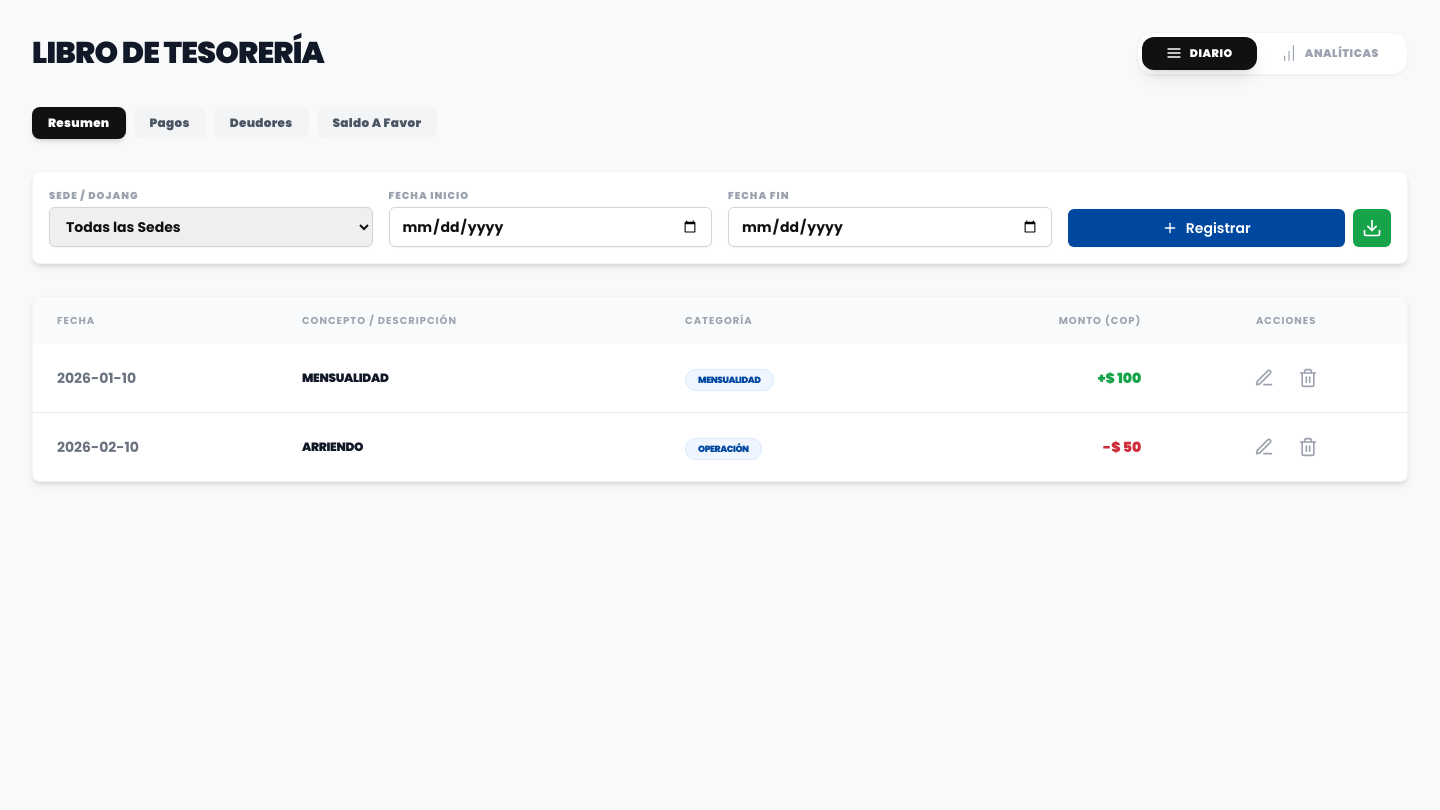
Test: VistaFinanzas › sin ningún estudiante con saldo a favor, muestra el estado vacío
This screenshot has width=1440, height=810.
Click the button "Saldo a Favor" at (377, 122), box x1=316 y1=106 x2=437 y2=138
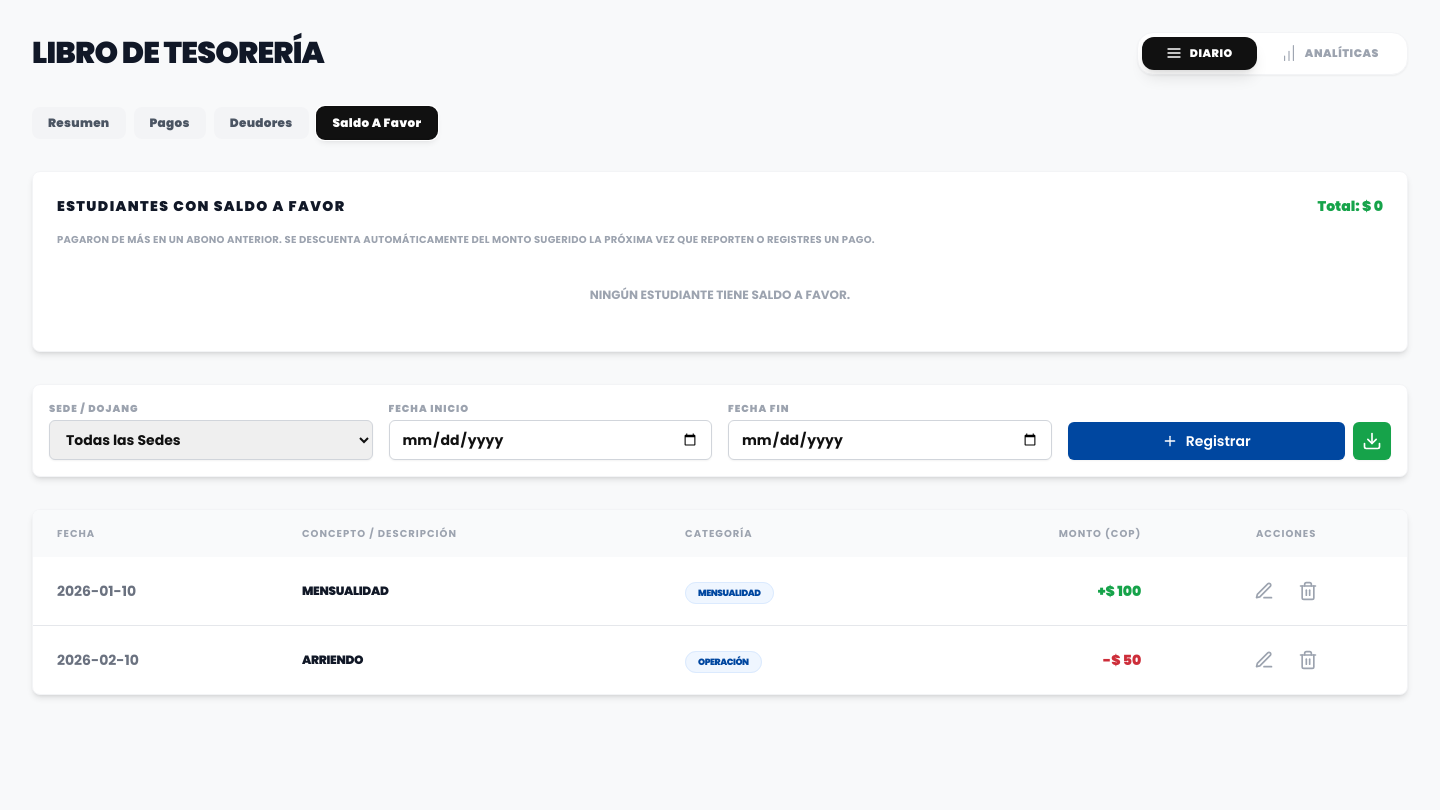
Check: the text "Ningún estudiante tiene saldo a favor." is shown, box x1=590 y1=286 x2=850 y2=302
